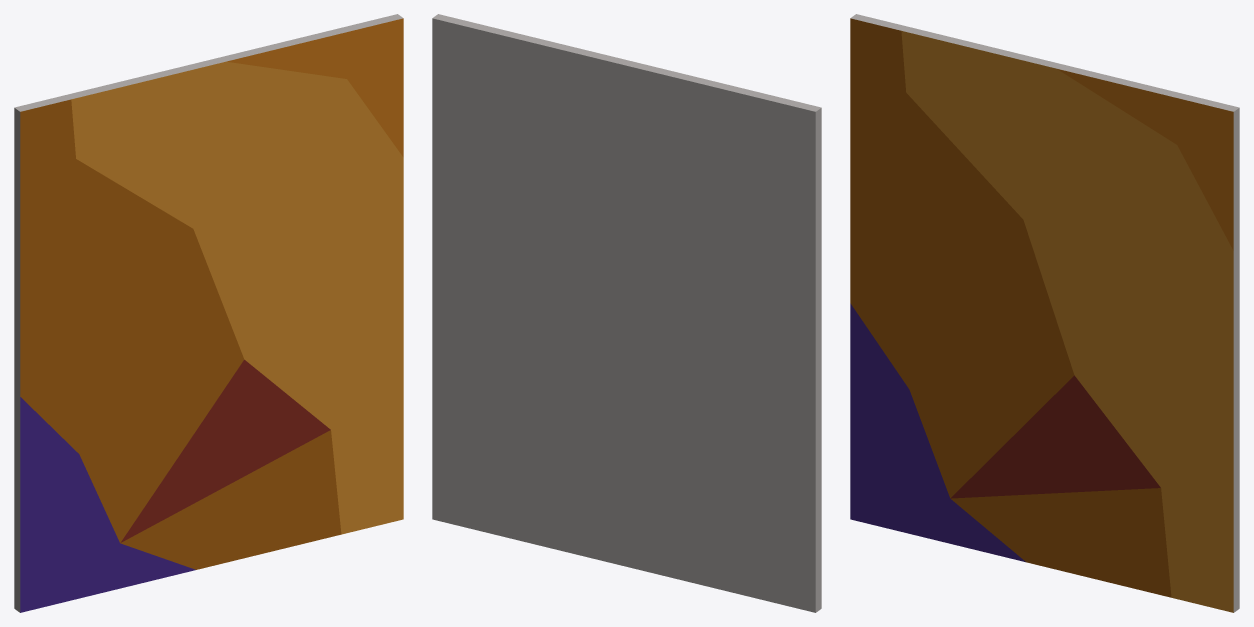
Rendered from SM_Prop_Art_02.obj.
3 views of the same model, side by side, from view 1: azimuth 30°, elevation 25°; view 2: azimuth 150°, elevation 25°; view 3: azimuth 330°, elevation 25° (orthographic).
Visible parts, largest first — view 1: SM_Prop_Art_02_0; view 2: SM_Prop_Art_02_0; view 3: SM_Prop_Art_02_0.
Boxes of the visible parts, x1,y1,x2,y2 form: SM_Prop_Art_02_0: (14, 14, 403, 612); SM_Prop_Art_02_0: (432, 14, 821, 612); SM_Prop_Art_02_0: (850, 14, 1239, 612).
Bounding box in the file's own units: 0.8114 × 1.01 × 0.0216.
Materials: 1 (1 with a texture image).
